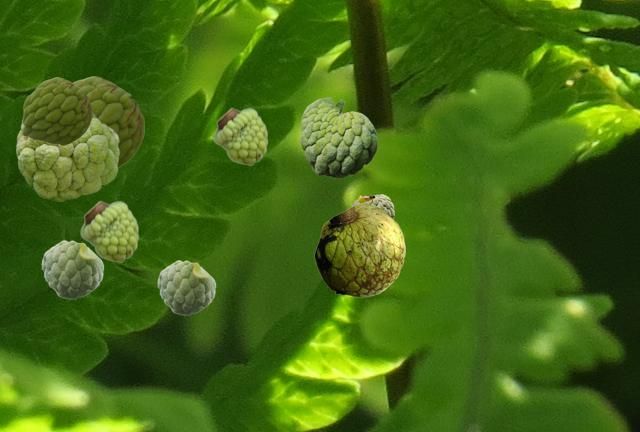atis: (16, 111, 118, 200), (314, 203, 404, 296), (73, 76, 143, 168), (300, 97, 376, 177), (22, 77, 91, 144), (41, 240, 103, 298), (80, 200, 138, 262), (213, 107, 267, 165), (157, 260, 215, 314), (352, 194, 393, 218)
